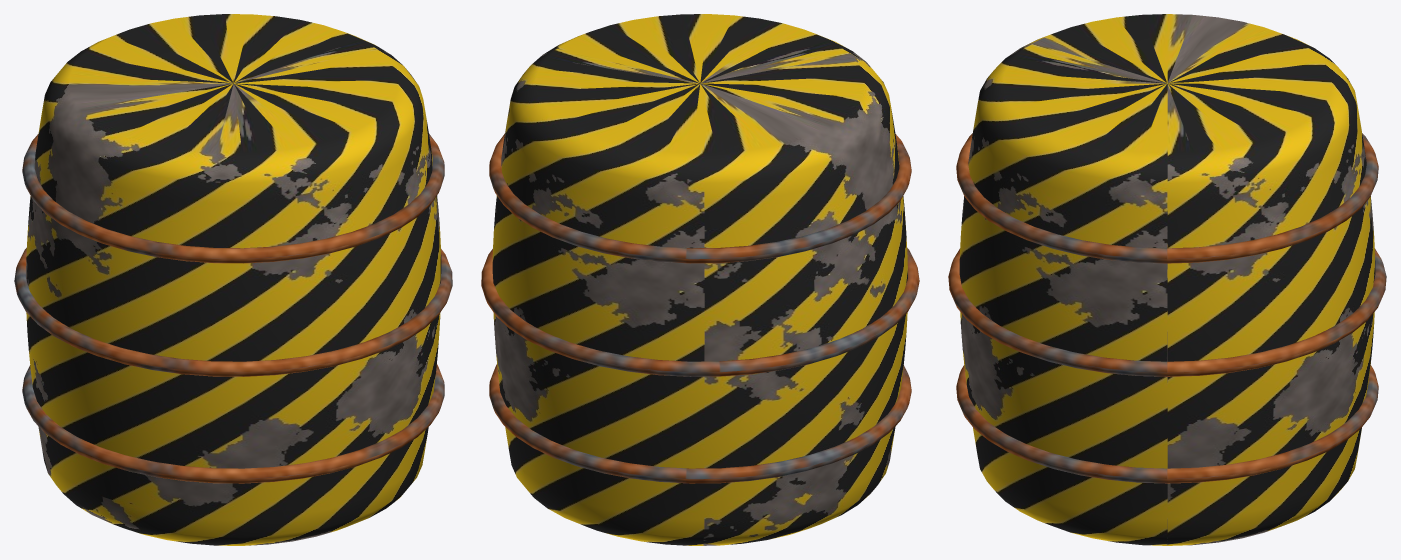
File: hazard_barrel.gltf
3 renders of one model, left to right at view 1: azimuth 30°, elevation 25°; view 2: azimuth 150°, elevation 25°; view 3: azimuth 270°, elevation 25°, orthographic.
Parts seen in each view (by area): view 1: hazard_barrel; view 2: hazard_barrel; view 3: hazard_barrel.
Boxes of the visible parts, x1,y1,x2,y2 form: hazard_barrel: (14,14,452,545); hazard_barrel: (481,14,919,545); hazard_barrel: (948,14,1386,545).
Bounding box in the file's own units: 1.01 × 1 × 1.01.
2 materials, 2 textured.
